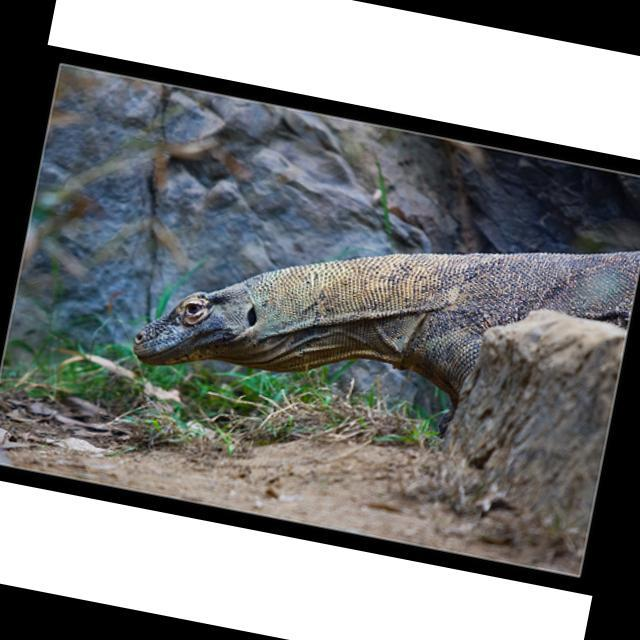KomodoDragon: (128, 151, 640, 452)
